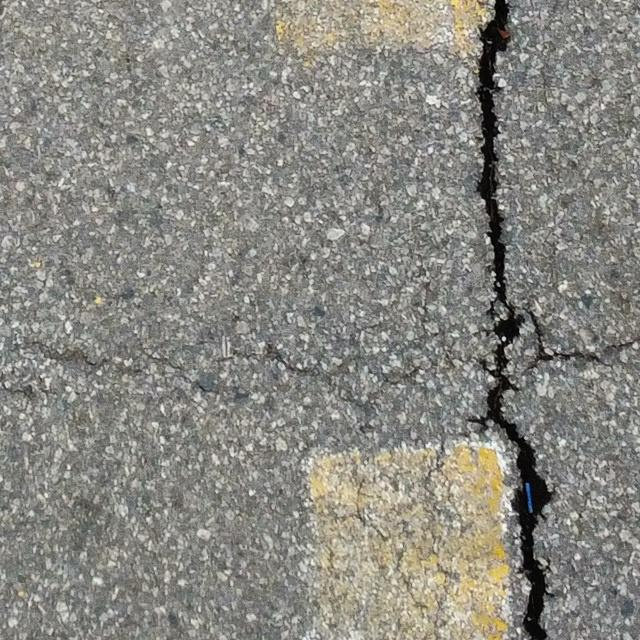LongitudinalCrack: (473, 1, 555, 640)
